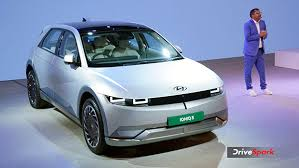Honda Ioniq: (22, 12, 231, 157)
